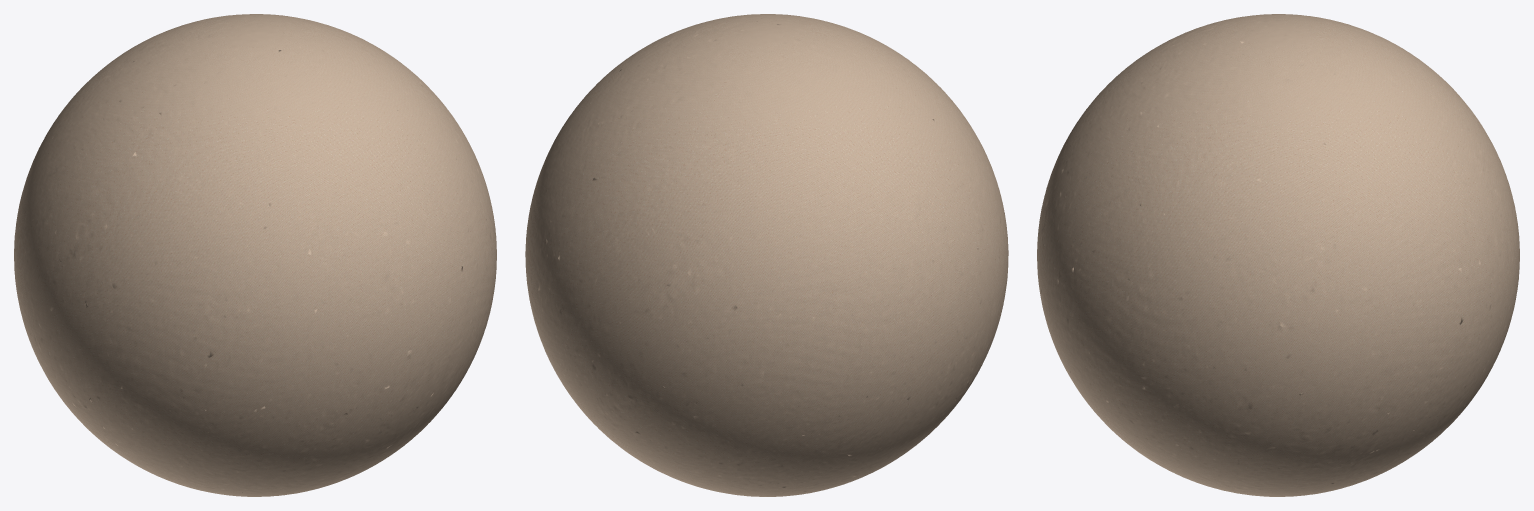
File: terlenka_2k.gltf
3 views of the same model, side by side, from view 1: azimuth 30°, elevation 25°; view 2: azimuth 150°, elevation 25°; view 3: azimuth 270°, elevation 25° (orthographic).
Visible parts, largest first — view 1: sphere_gltf; view 2: sphere_gltf; view 3: sphere_gltf.
Part boxes in pixels (left/top/right/bottom): sphere_gltf: left=14, top=14, right=496, bottom=496; sphere_gltf: left=525, top=14, right=1008, bottom=496; sphere_gltf: left=1037, top=14, right=1519, bottom=496.
Size of the model in its own units: 0.2663 by 0.2664 by 0.2664.
Materials: 1 (1 with a texture image).
